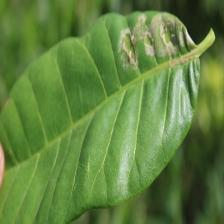leaf miner: (109, 11, 194, 80)
